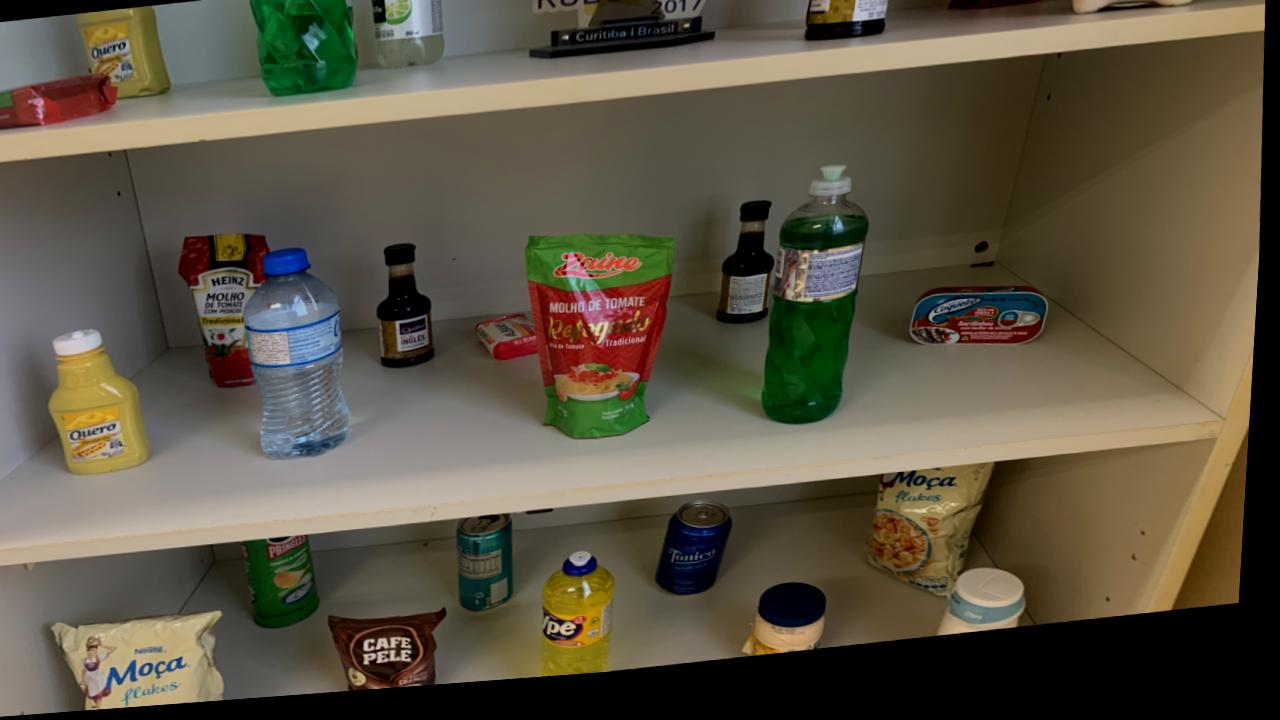Cleaner-Cleanup_Items: (947, 583, 1035, 650)
Coffee-Pantry_Items: (337, 617, 455, 697)
Detergent-Cleanup_Items: (767, 178, 872, 437), (249, 0, 359, 101), (549, 561, 623, 686)
English_Sauce-Pantry_Items: (381, 251, 438, 375), (723, 212, 779, 335), (806, 0, 889, 53)
Flakes-Snacks: (875, 478, 1001, 612), (60, 616, 232, 712)
Guava-Snacks: (0, 74, 118, 129)
Mayonnaise-Pantry_Items: (752, 595, 835, 668)
Mustard-Pantry_Items: (55, 331, 154, 477), (77, 8, 171, 100)
Pig_Safe-Miscellaneous: (1062, 0, 1205, 30)
Pringles-Snacks: (250, 540, 327, 633)
Soap-Cleanup_Items: (481, 322, 543, 368)
Soda-Drinks: (372, 0, 444, 75)
Tea-Drinks: (463, 521, 521, 620)
Tomato_Sauce-Pantry_Items: (529, 245, 677, 448), (181, 238, 272, 391), (949, 0, 1045, 25)
Tonic-Drinks: (663, 511, 738, 606)
Trophy-Miscellaneous: (531, 0, 716, 67)
Tuna_Can-Pantry_Items: (913, 301, 1053, 361)
Water_Bottle-Drinks: (248, 252, 355, 464)
